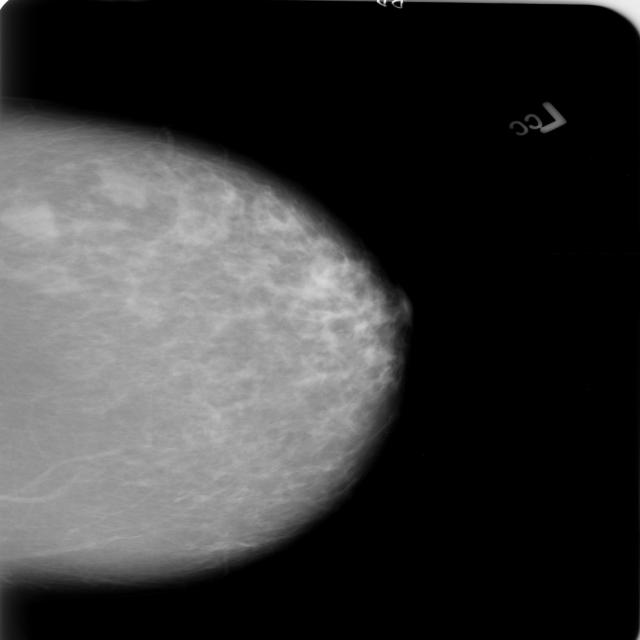normal: (0, 121, 393, 589)
